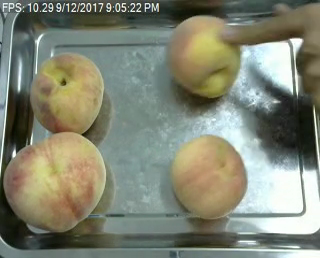Peach: (3, 132, 107, 234), (170, 134, 248, 221), (167, 15, 244, 97), (30, 52, 106, 135)
